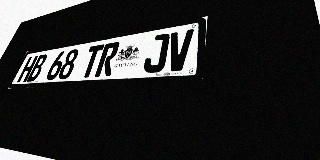6: (45, 50, 68, 80)
8: (56, 48, 81, 80)
B: (26, 54, 49, 82)
H: (17, 55, 38, 82)
J: (142, 33, 170, 73)
R: (94, 41, 121, 77)
T: (79, 44, 105, 78)
V: (165, 29, 194, 72)
